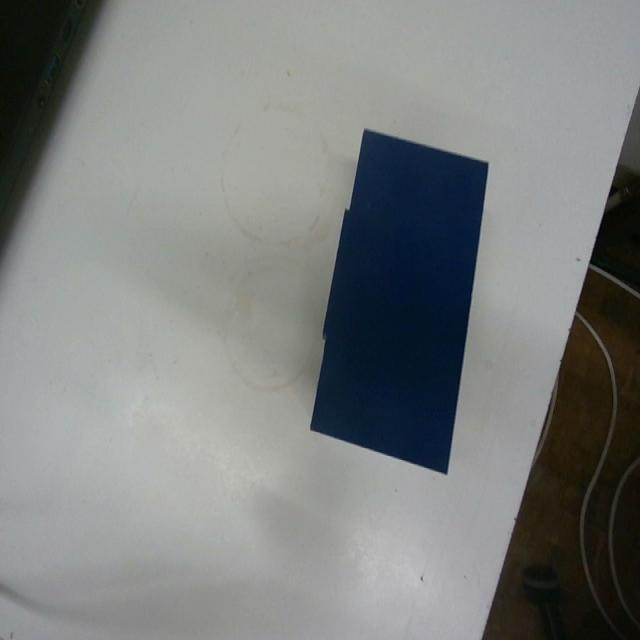Blue Cuboid: (308, 124, 490, 476)
